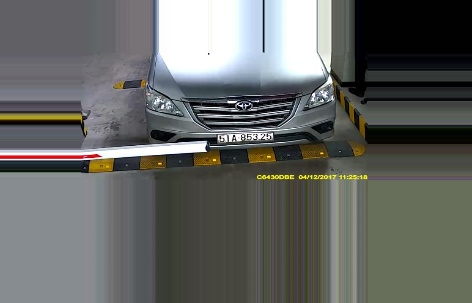plate: (216, 131, 274, 142)
